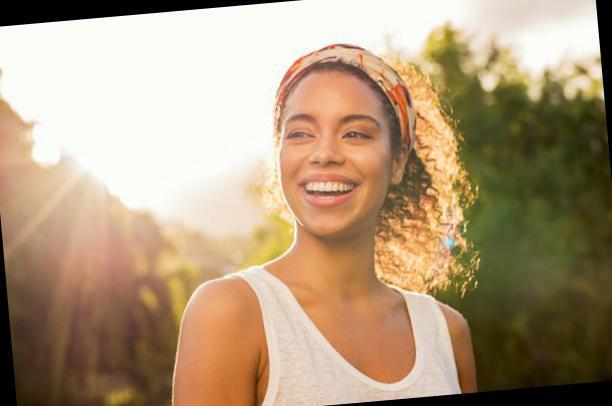Sober: (286, 83, 382, 236)
